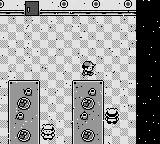main: (82, 62, 95, 75)
no-caminable: (136, 0, 160, 144), (72, 81, 104, 143), (8, 81, 39, 143), (40, 0, 136, 16), (0, 0, 24, 16)
npc: (41, 124, 55, 140), (105, 108, 119, 124)
puerta: (26, 2, 38, 15)
